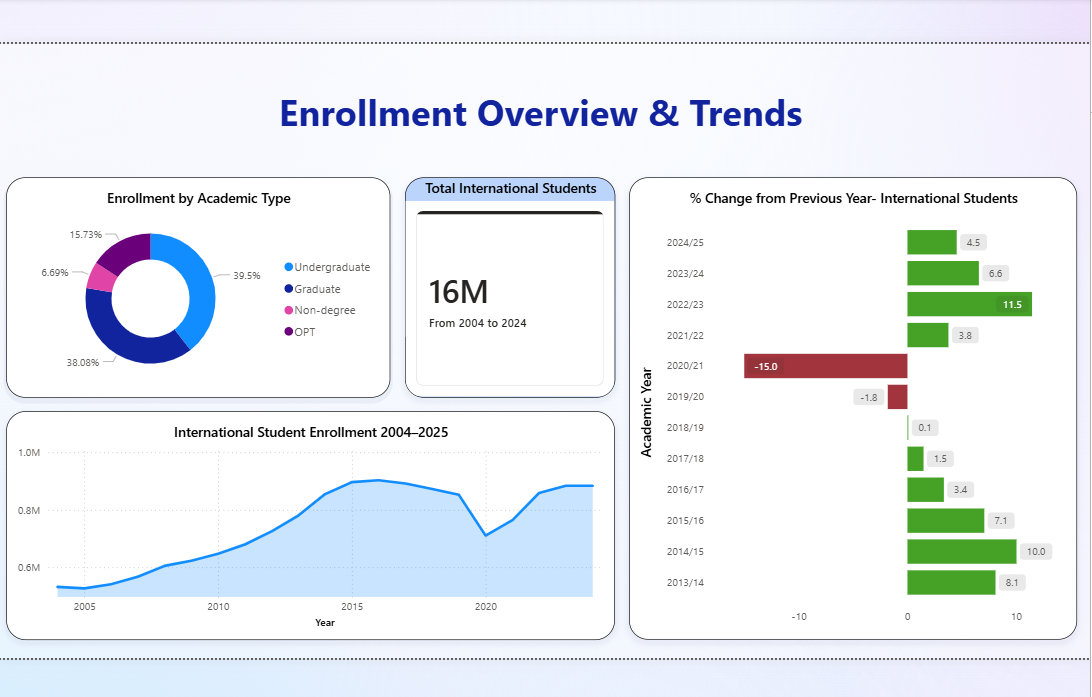

The page's visual inventory and layout, read from the dashboard file:
{"tool":"powerbi","page":{"name":"Enrollment Overview & Trends","canvas":[1280,720],"ordinal":1},"visuals":[{"type":"areaChart","title":"International Student Enrollment 2004–2025","fields":{"Category":["international_enrollment_20years.year_start"],"Y":["Sum(international_enrollment_20years.enrolled_intl_students)"]},"box":[10,430,713.3,268.3],"z":0},{"type":"donutChart","title":"Enrollment by Academic Type","fields":{"Y":["Sum(academic.undergraduate)","Sum(academic.graduate)","Sum(academic.non_degree)","Sum(academic.opt)"]},"box":[10,156.7,450,258.3],"z":1000},{"type":"barChart","title":"% Change from Previous Year- International Students","fields":{"Category":["international_enrollment_20years.academic_year"],"Y":["Sum(international_enrollment_20years.yoy_pct_change)"]},"box":[740,156.7,525,541.7],"z":2000},{"type":"textbox","box":[10,26.7,1253.3,110],"z":3000},{"type":"cardVisual","title":"Total International Students","fields":{"Data":["Sum(international_enrollment_20years.enrolled_intl_students)"]},"box":[476.7,156.7,246.7,258.3],"z":4000}]}

Visuals, with their boxes on the page's 1280x720 design canvas (x1, y1, x2, y2). These are canvas units, not pixel positions in the 1092x697 screenshot, which may show the page scaled, cropped or inside an application window:
"International Student Enrollment 2004–2025" areaChart: [10,430,723,698]
"Enrollment by Academic Type" donutChart: [10,157,460,415]
"% Change from Previous Year- International Students" barChart: [740,157,1265,698]
textbox: [10,27,1263,137]
"Total International Students" cardVisual: [477,157,723,415]
